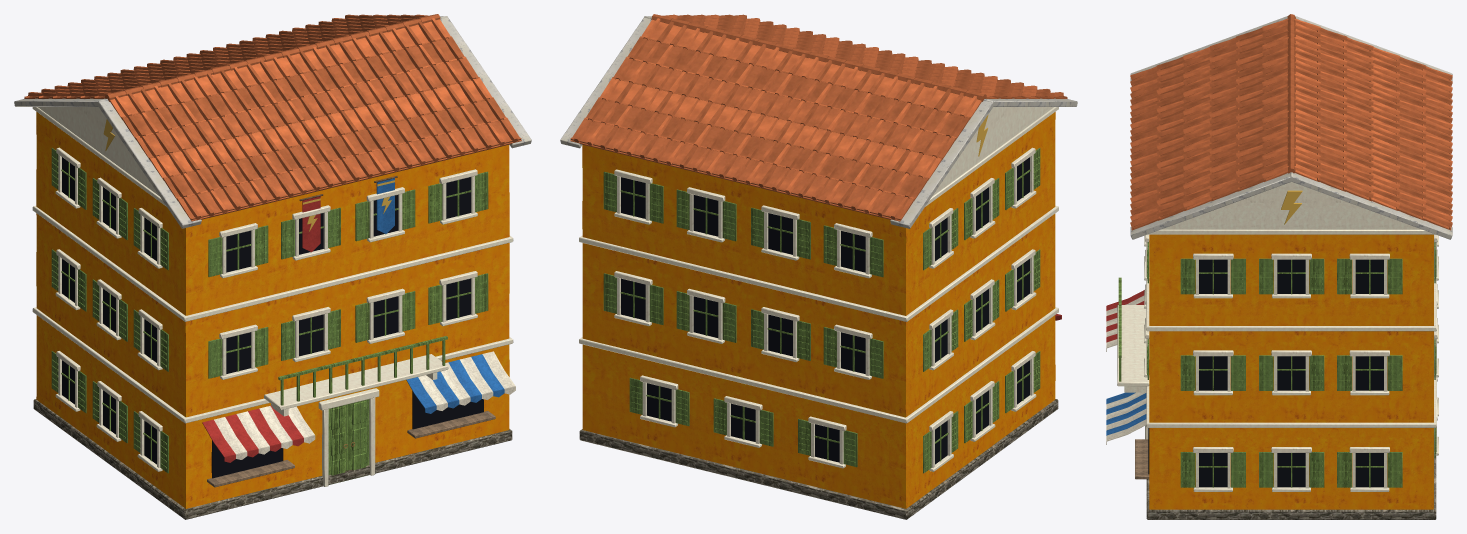
Rendered from home_insula_t2.glb.
3 views of the same model, side by side, from view 1: azimuth 30°, elevation 25°; view 2: azimuth 150°, elevation 25°; view 3: azimuth 270°, elevation 25° (orthographic). The views are drawn at different scales.
Visible parts, largest first — view 1: ochre, cream, terracotta1, olive_wood, terracotta0, terracotta2, dark, stone_dark, cloth_cream, marble, cloth_red, cloth_azure (+1 smaller); view 2: ochre, cream, terracotta1, terracotta0, olive_wood, terracotta2, dark, stone_dark, marble; view 3: ochre, cream, terracotta1, terracotta0, terracotta2, olive_wood, dark, marble, stone_dark, cloth_cream, cloth_azure, wood (+1 smaller).
Boxes of the visible parts, bbox=[...] form: ochre: bbox=[36, 112, 509, 508]; cream: bbox=[32, 107, 513, 486]; terracotta1: bbox=[24, 14, 521, 220]; olive_wood: bbox=[51, 148, 488, 484]; terracotta0: bbox=[24, 14, 521, 221]; terracotta2: bbox=[38, 14, 507, 213]; dark: bbox=[62, 157, 483, 478]; stone_dark: bbox=[33, 399, 512, 519]; cloth_cream: bbox=[214, 351, 515, 459]; marble: bbox=[14, 16, 531, 228]; cloth_red: bbox=[202, 196, 320, 462]; cloth_azure: bbox=[376, 178, 504, 413]; ochre: bbox=[582, 112, 1055, 508]; cream: bbox=[579, 107, 1058, 471]; terracotta1: bbox=[570, 14, 1067, 220]; terracotta0: bbox=[570, 14, 1067, 221]; olive_wood: bbox=[603, 148, 1040, 473]; terracotta2: bbox=[584, 14, 1053, 213]; dark: bbox=[621, 157, 1029, 464]; stone_dark: bbox=[579, 399, 1058, 519]; marble: bbox=[560, 16, 1077, 228]; ochre: bbox=[1149, 234, 1433, 509]; cream: bbox=[1117, 182, 1438, 491]; terracotta1: bbox=[1130, 14, 1452, 229]; terracotta0: bbox=[1130, 25, 1452, 230]; terracotta2: bbox=[1130, 18, 1452, 220]; olive_wood: bbox=[1118, 242, 1436, 487]; dark: bbox=[1148, 259, 1383, 487]; marble: bbox=[1130, 16, 1452, 239]; stone_dark: bbox=[1146, 456, 1436, 519]; cloth_cream: bbox=[1106, 295, 1146, 444]; cloth_azure: bbox=[1106, 392, 1146, 435]; wood: bbox=[1135, 439, 1149, 479].
Bounding box in the file's own units: 10.8 × 10.96 × 9.74.
16 materials, 14 textured.
